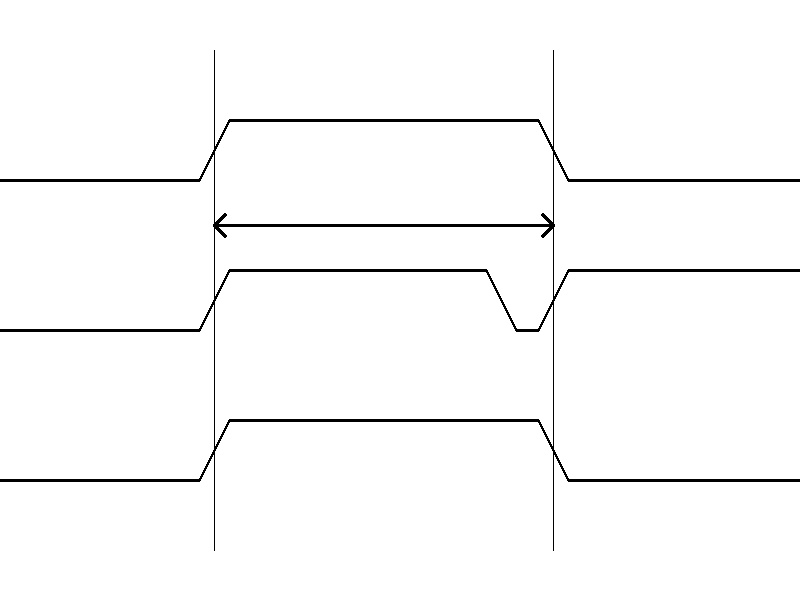double_arrow: (214, 210, 553, 240)
